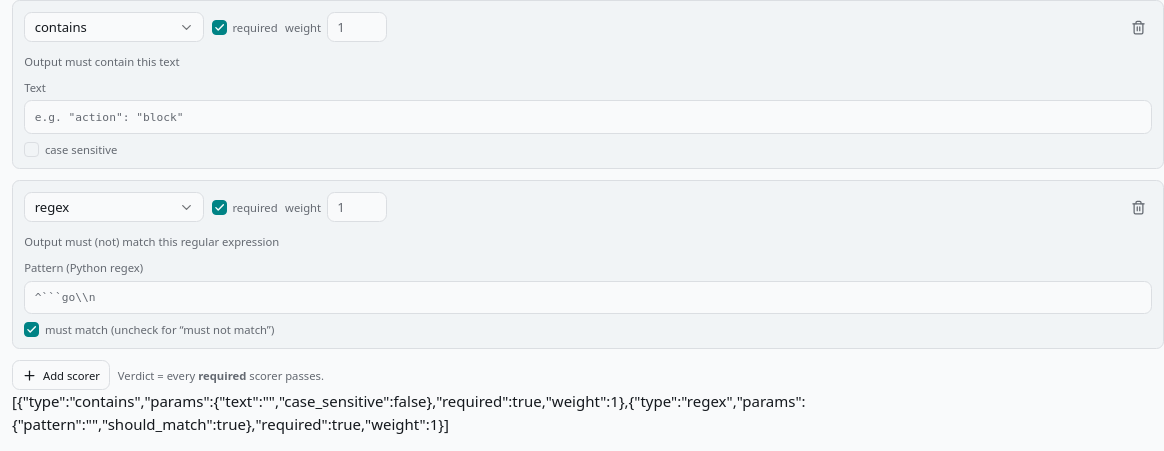
ScoringBuilder › removes a scorer
Click the button named "Remove scorer 1" at (1139, 27), box [1126, 14, 1152, 40]
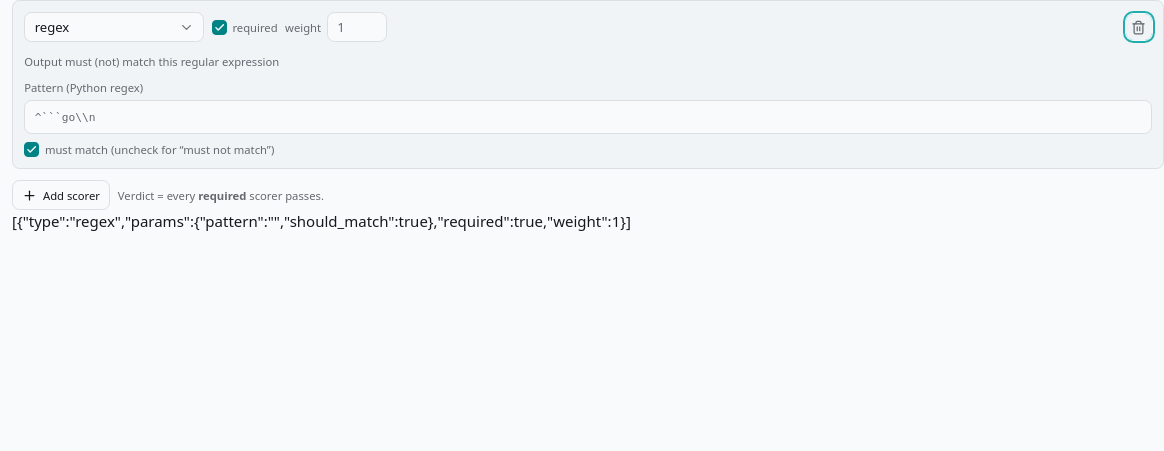
Result: the text "regex" is shown at [35, 18, 69, 37]
